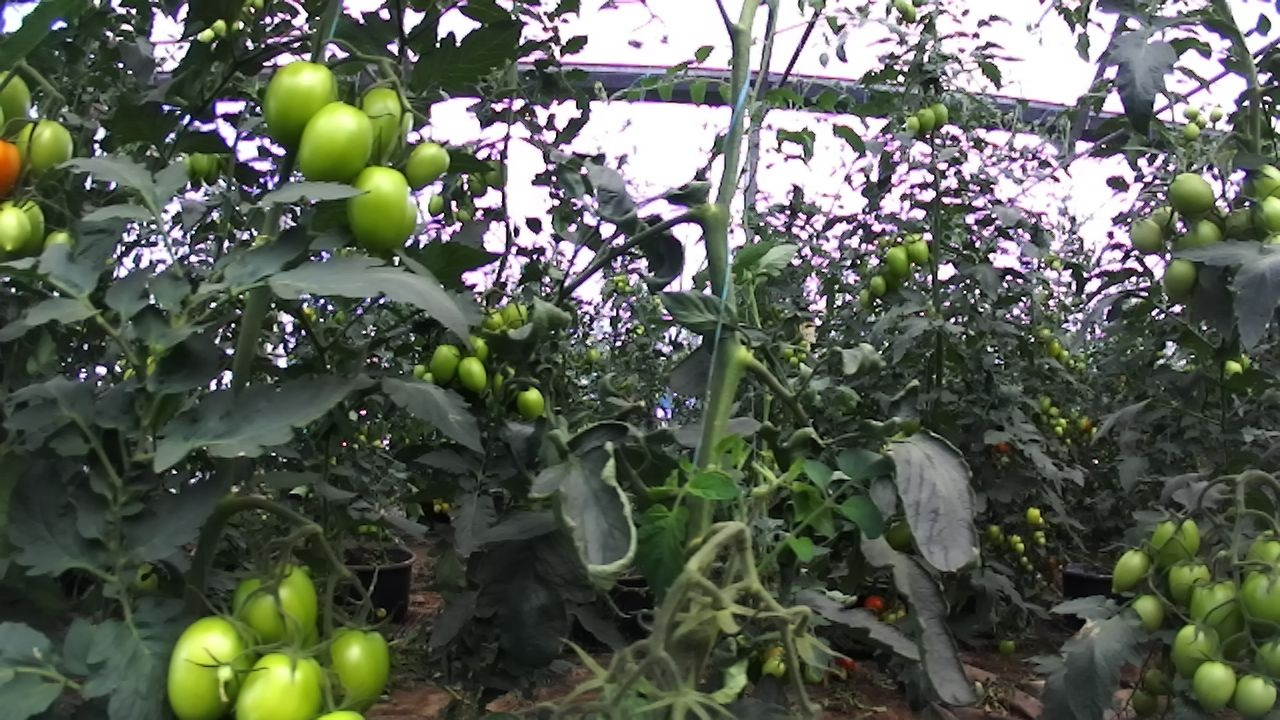tomato: (157, 603, 259, 720), (227, 555, 329, 659), (289, 93, 378, 190), (258, 56, 346, 152), (226, 639, 330, 720), (341, 160, 424, 260), (317, 616, 396, 713), (352, 72, 408, 175), (15, 112, 83, 180), (1147, 505, 1205, 576), (399, 133, 460, 194), (1186, 574, 1245, 637), (1165, 621, 1223, 682), (1164, 165, 1223, 221), (1164, 558, 1220, 613), (1189, 656, 1241, 712), (0, 63, 41, 132), (1170, 212, 1230, 258), (1106, 541, 1155, 596), (1157, 250, 1205, 304), (1233, 667, 1280, 720), (1241, 561, 1280, 624), (425, 340, 471, 387), (1126, 212, 1170, 257), (0, 204, 36, 257), (1240, 157, 1280, 204), (451, 353, 494, 395), (1248, 523, 1280, 578), (1131, 592, 1171, 635), (512, 383, 551, 425), (1245, 192, 1280, 236), (479, 152, 514, 194), (882, 240, 916, 282), (1252, 633, 1280, 684), (1147, 200, 1183, 239), (0, 134, 21, 199), (498, 297, 533, 335), (1139, 665, 1176, 697), (463, 163, 492, 201), (199, 149, 225, 189), (1129, 687, 1163, 717), (904, 233, 934, 267), (888, 0, 924, 28), (1175, 119, 1206, 149), (187, 147, 215, 180), (759, 653, 790, 681), (861, 589, 887, 620), (995, 633, 1022, 661), (426, 190, 450, 220), (928, 100, 951, 131), (1219, 357, 1246, 382), (867, 271, 891, 299), (915, 105, 938, 132), (454, 202, 479, 226), (1181, 100, 1203, 125), (902, 113, 923, 135), (1207, 104, 1227, 127), (1044, 337, 1063, 358), (857, 287, 876, 307), (984, 521, 1002, 541), (1025, 505, 1042, 526), (1037, 393, 1053, 414), (1056, 347, 1071, 365), (1009, 533, 1023, 550), (1013, 539, 1027, 555), (1046, 405, 1061, 419), (1033, 515, 1046, 531), (1032, 529, 1045, 543), (1052, 424, 1065, 437), (1057, 416, 1069, 430), (1035, 536, 1048, 548), (1018, 555, 1030, 567)
